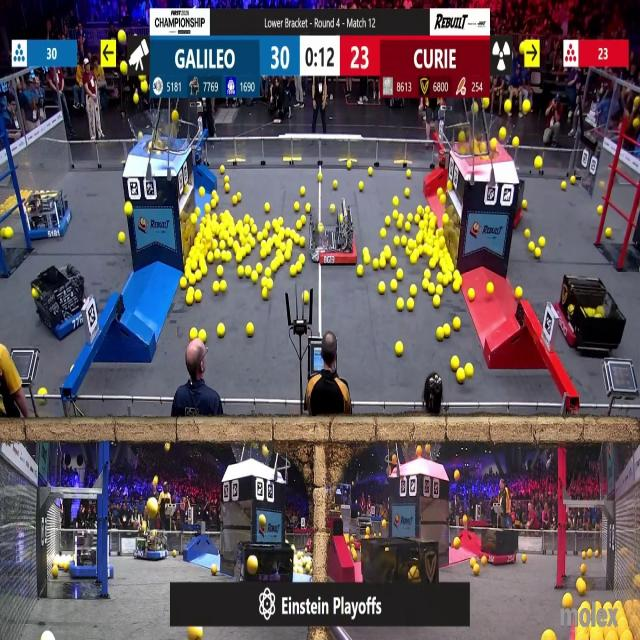ball_airborne: (146, 498, 158, 514), (248, 557, 258, 575), (116, 32, 125, 44), (523, 101, 531, 114), (490, 138, 498, 151), (534, 158, 542, 170), (504, 100, 511, 113), (258, 515, 265, 528), (520, 41, 527, 54), (458, 132, 466, 143), (140, 81, 148, 92), (481, 142, 488, 154), (120, 62, 126, 75), (499, 129, 506, 140), (484, 98, 490, 109), (514, 137, 520, 147), (172, 111, 178, 121), (264, 447, 270, 457), (134, 92, 140, 102), (142, 522, 148, 532), (453, 473, 459, 483), (417, 447, 422, 458), (152, 477, 158, 486), (472, 104, 477, 114), (460, 147, 466, 155)
ball_ground: (190, 627, 202, 639), (576, 581, 585, 596), (563, 594, 572, 609), (395, 342, 403, 357), (542, 630, 554, 640), (217, 323, 225, 337), (246, 322, 254, 336), (465, 362, 473, 376), (456, 368, 464, 382), (126, 203, 134, 216), (435, 327, 443, 340), (452, 356, 459, 370), (407, 300, 415, 312), (453, 318, 461, 330), (356, 266, 364, 278), (432, 295, 440, 306), (224, 251, 232, 262), (250, 273, 258, 284), (212, 282, 220, 293), (4, 229, 12, 240), (418, 245, 426, 256), (186, 292, 193, 304), (379, 282, 386, 294), (219, 280, 226, 292), (189, 328, 196, 340), (193, 289, 200, 301), (180, 278, 187, 290), (467, 288, 474, 300), (428, 283, 435, 295), (390, 256, 397, 268), (396, 300, 403, 312), (51, 566, 58, 578), (281, 250, 288, 262), (215, 250, 222, 262), (434, 284, 442, 294), (187, 276, 195, 286), (424, 245, 432, 255), (487, 283, 494, 294), (200, 329, 207, 340), (238, 267, 245, 278), (453, 282, 460, 293), (435, 273, 442, 284), (41, 633, 52, 640), (265, 246, 272, 257), (429, 257, 436, 268), (429, 217, 436, 228), (304, 290, 310, 302), (217, 266, 223, 278), (290, 266, 296, 278), (372, 262, 378, 274), (445, 325, 451, 337), (538, 238, 545, 248), (259, 249, 266, 259), (219, 240, 226, 250), (453, 538, 460, 548), (286, 230, 293, 240), (517, 287, 523, 298), (411, 285, 417, 296), (579, 564, 585, 575), (118, 233, 124, 244), (391, 281, 397, 292), (263, 288, 269, 299), (472, 564, 478, 575), (396, 270, 402, 281), (272, 262, 278, 273), (202, 266, 208, 277), (444, 276, 450, 287), (218, 232, 226, 240), (297, 254, 304, 263), (245, 246, 252, 255), (190, 214, 197, 223), (259, 277, 266, 286), (409, 240, 416, 249), (244, 214, 251, 223), (259, 239, 266, 248), (241, 224, 248, 233), (212, 564, 218, 574), (412, 254, 418, 264), (605, 229, 611, 239), (268, 279, 274, 289), (363, 254, 369, 264), (385, 216, 391, 226), (444, 214, 450, 224), (528, 242, 534, 252), (237, 253, 243, 263), (293, 203, 299, 213), (524, 230, 530, 240), (534, 248, 540, 258), (392, 198, 398, 208), (295, 264, 301, 274), (208, 252, 214, 262), (400, 237, 406, 247), (403, 220, 409, 230), (266, 220, 272, 230), (250, 238, 256, 248), (194, 272, 200, 282), (226, 239, 232, 249), (396, 219, 402, 229), (417, 234, 423, 244), (212, 240, 218, 250), (275, 238, 281, 248), (190, 262, 196, 272), (280, 240, 286, 250), (317, 224, 324, 232), (423, 279, 428, 290), (256, 265, 262, 274), (286, 240, 292, 249), (266, 269, 272, 278), (454, 272, 460, 281), (598, 206, 604, 215), (331, 180, 337, 189), (392, 210, 398, 219), (329, 205, 335, 214), (306, 204, 312, 213), (276, 248, 282, 257), (441, 194, 447, 203), (256, 233, 262, 242), (211, 214, 217, 223), (279, 233, 285, 242), (596, 601, 602, 610), (234, 239, 240, 248), (299, 238, 304, 248), (425, 270, 430, 280), (394, 237, 399, 247), (385, 246, 390, 256), (33, 288, 38, 298), (266, 203, 271, 213), (381, 260, 386, 270), (264, 231, 269, 241), (241, 246, 246, 256), (39, 388, 46, 395), (403, 248, 410, 255), (403, 188, 409, 196), (408, 214, 414, 222), (407, 170, 413, 178), (415, 215, 421, 223), (211, 201, 217, 209), (316, 174, 322, 182), (424, 206, 430, 214), (588, 550, 594, 558), (268, 239, 274, 247), (419, 220, 425, 228), (205, 206, 211, 214), (184, 270, 190, 278), (523, 201, 528, 210), (381, 230, 386, 239), (296, 221, 301, 230), (359, 184, 364, 193), (299, 186, 304, 195), (279, 217, 284, 226), (273, 218, 278, 227), (450, 264, 455, 273), (353, 553, 358, 562), (362, 248, 368, 255), (417, 207, 423, 214), (570, 176, 575, 184), (367, 168, 372, 176), (347, 162, 352, 170), (224, 183, 229, 191), (482, 558, 487, 566), (212, 190, 217, 198), (200, 187, 205, 195), (345, 534, 350, 542), (448, 182, 453, 190), (562, 181, 566, 190), (252, 224, 256, 233), (172, 552, 178, 558), (234, 197, 238, 206), (523, 555, 527, 563), (220, 167, 224, 175), (194, 208, 198, 215), (224, 176, 228, 183), (595, 551, 599, 558), (202, 216, 206, 223), (185, 258, 189, 264)
goal: (128, 116, 186, 152), (462, 120, 512, 160)
robot_blue: (35, 264, 88, 340), (23, 190, 70, 240), (72, 534, 100, 580), (134, 527, 167, 560), (0, 192, 16, 234)
robot_red: (556, 275, 624, 353), (312, 217, 356, 264), (482, 524, 520, 564)
